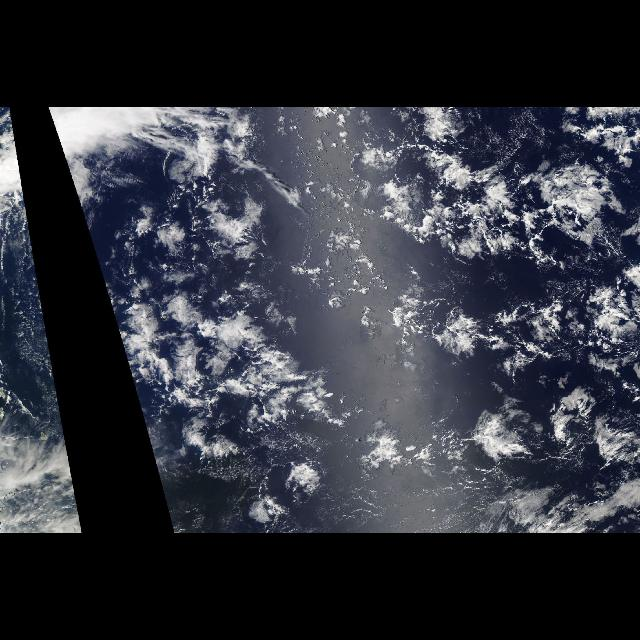Fish: (363, 134, 639, 473), (110, 272, 352, 428)
Flower: (360, 107, 640, 533), (104, 192, 354, 488)
